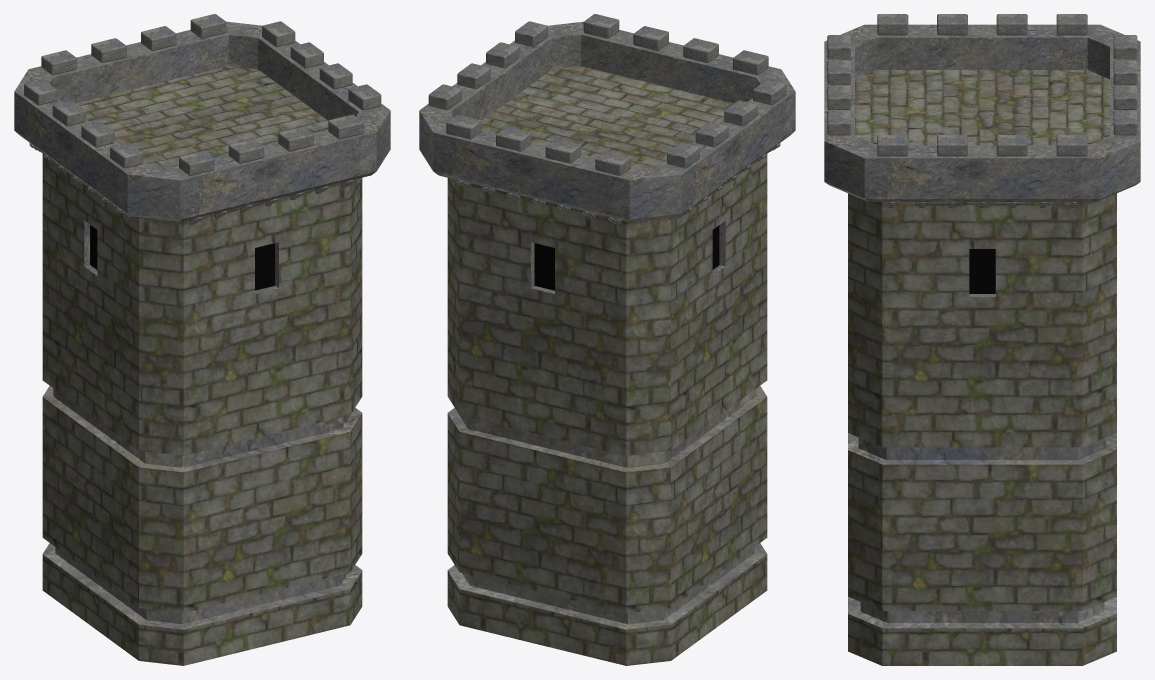
Rendered from tower_and_castle_walls_0_8F42F975.gltf.
3 renders of one model, left to right at view 1: azimuth 30°, elevation 25°; view 2: azimuth 150°, elevation 25°; view 3: azimuth 270°, elevation 25°, orthographic. The views are drawn at different scales.
Parts seen in each view (by area): view 1: tower_and_castle_walls_0_8F42F975; view 2: tower_and_castle_walls_0_8F42F975; view 3: tower_and_castle_walls_0_8F42F975.
Boxes of the visible parts, box(x1,y1,x2,y2) form: tower_and_castle_walls_0_8F42F975: box(14, 14, 390, 665); tower_and_castle_walls_0_8F42F975: box(419, 14, 795, 665); tower_and_castle_walls_0_8F42F975: box(824, 14, 1140, 665).
Size of the model in its own units: 3.78 by 7 by 3.78.
